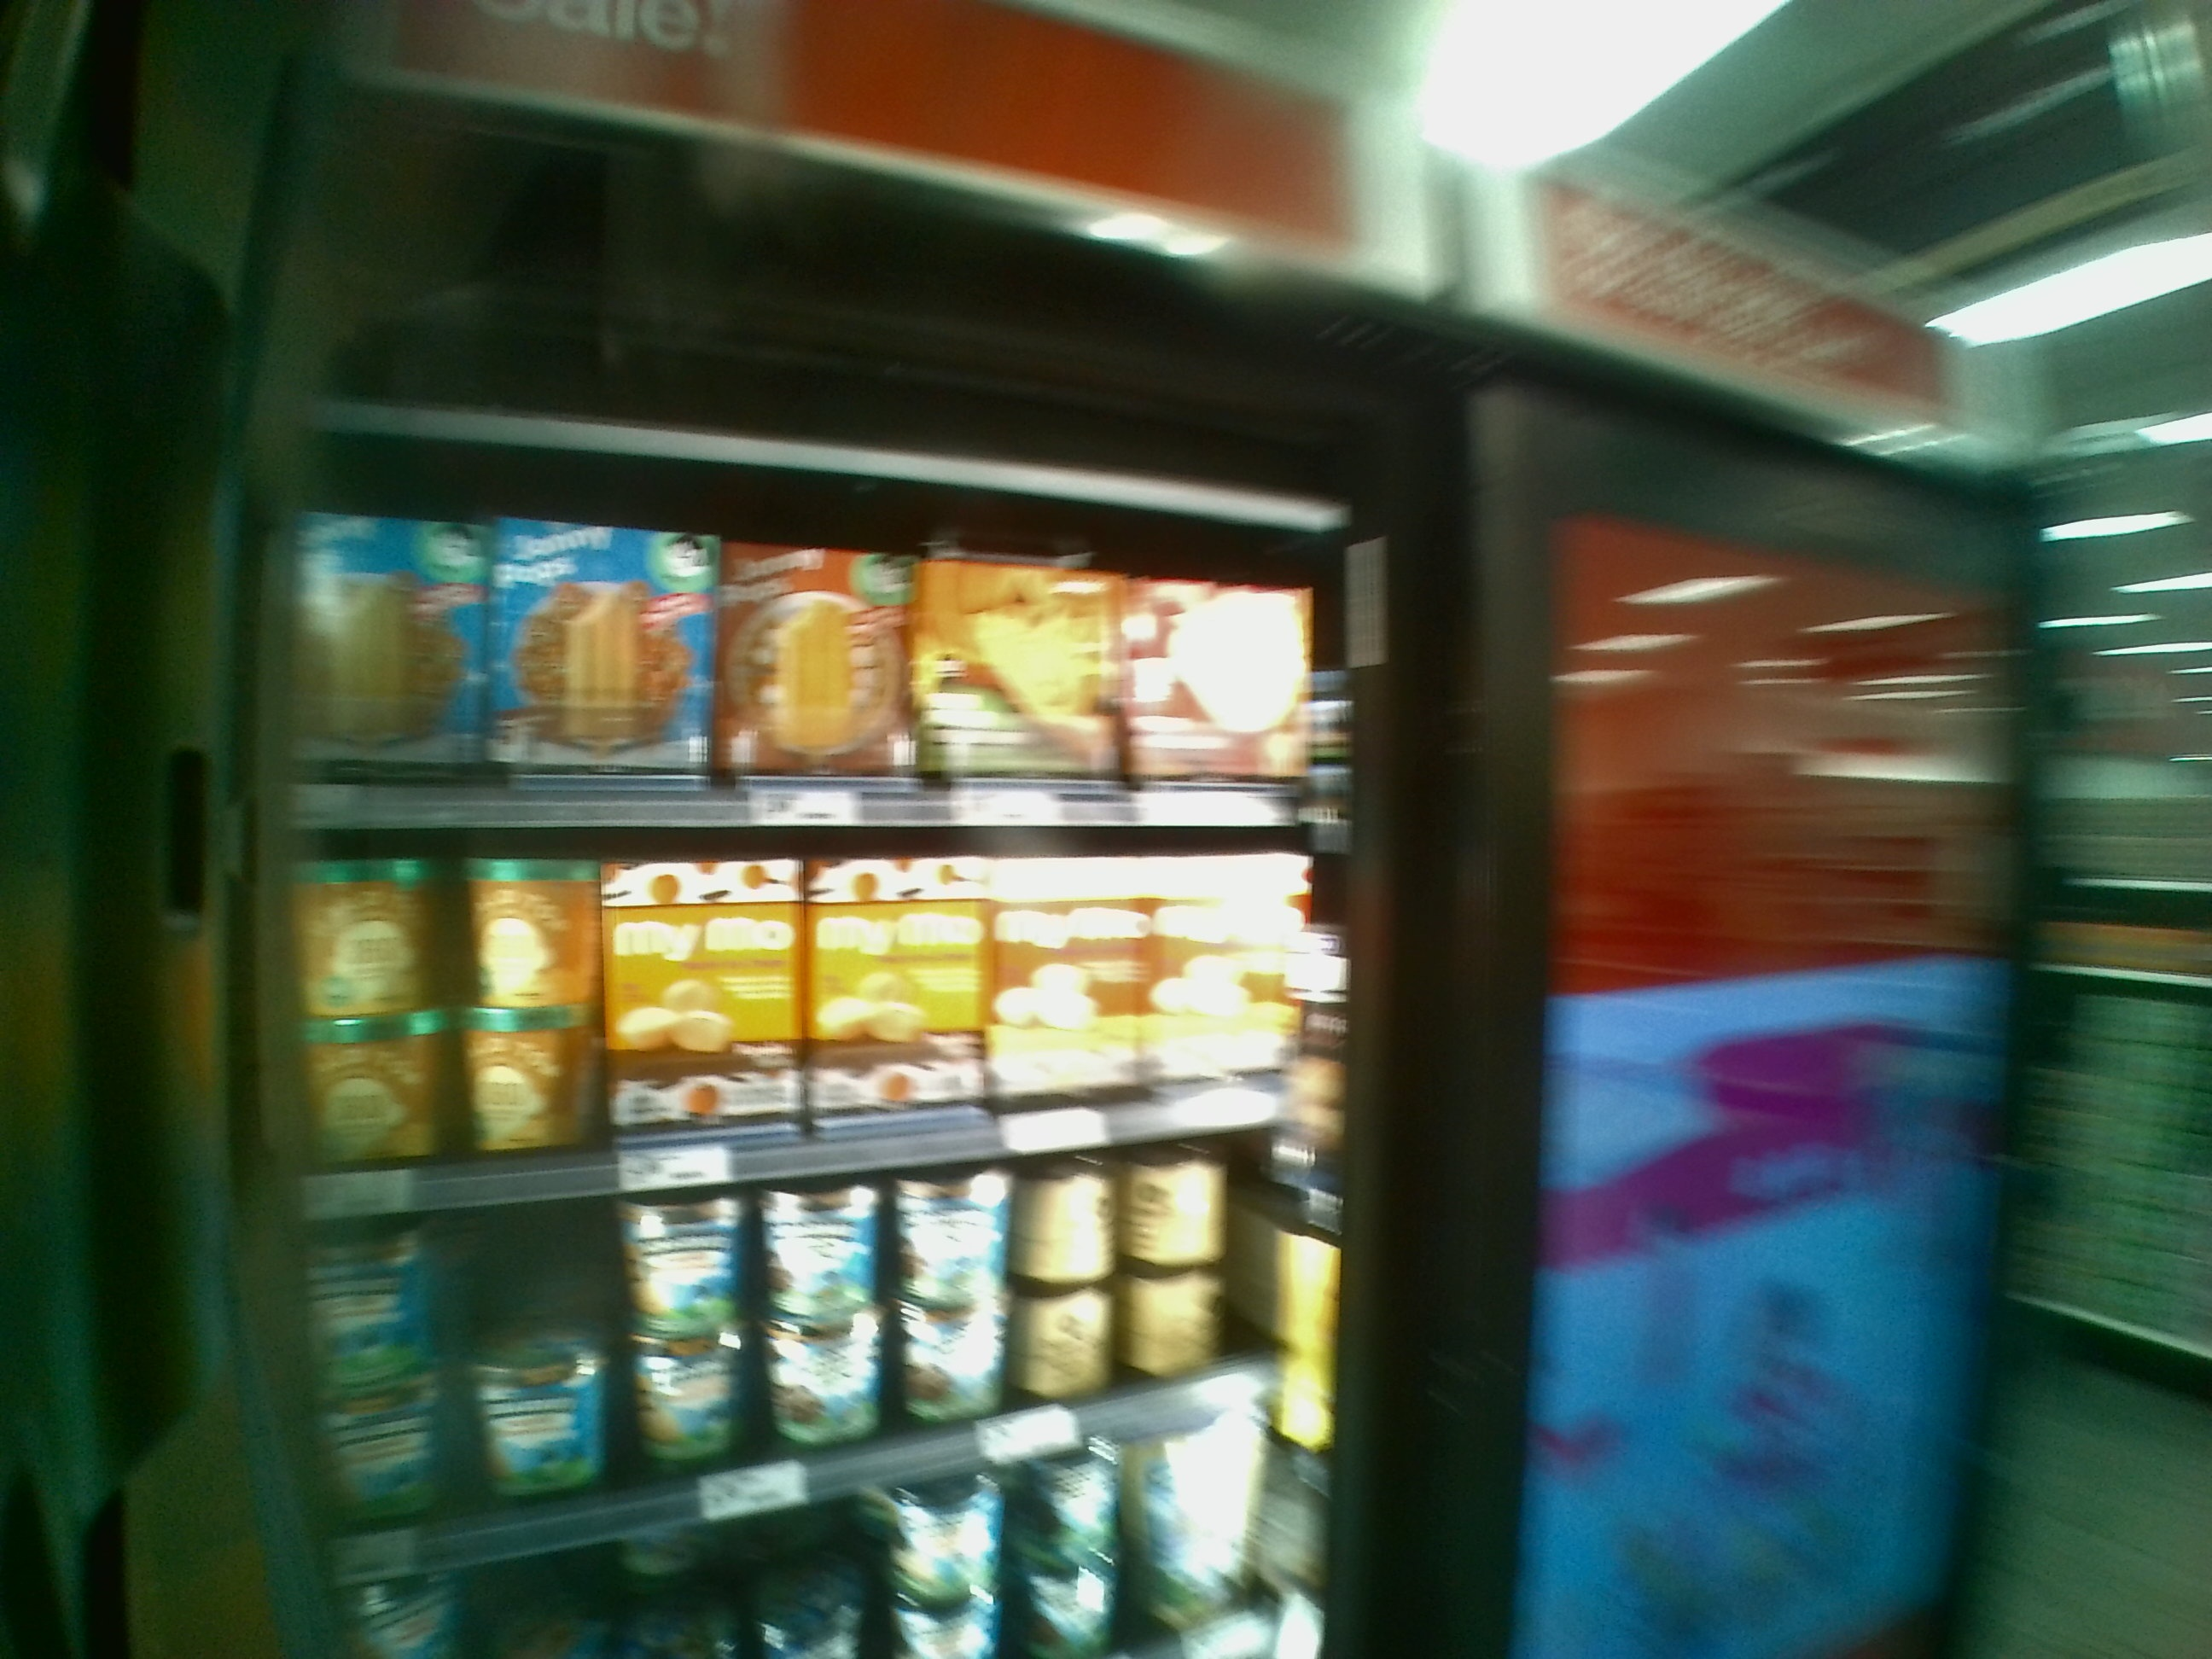shelf: (273, 793, 1341, 1187), (291, 439, 1341, 817), (286, 1197, 1343, 1551)
